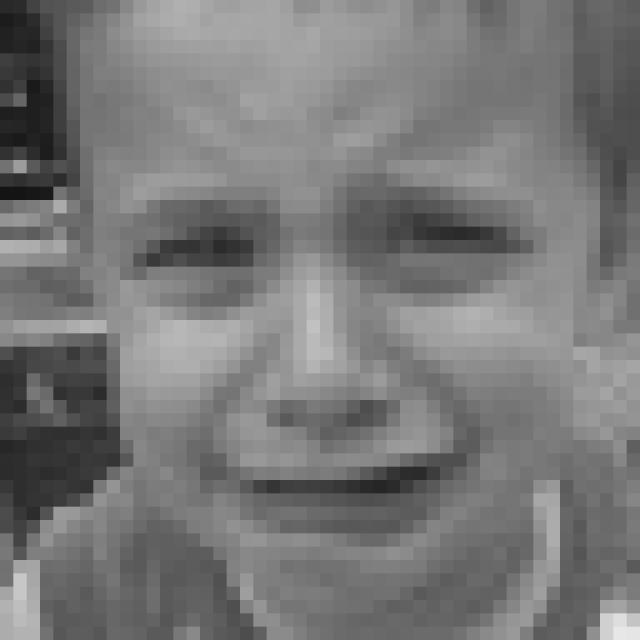sad: (125, 165, 541, 544)
